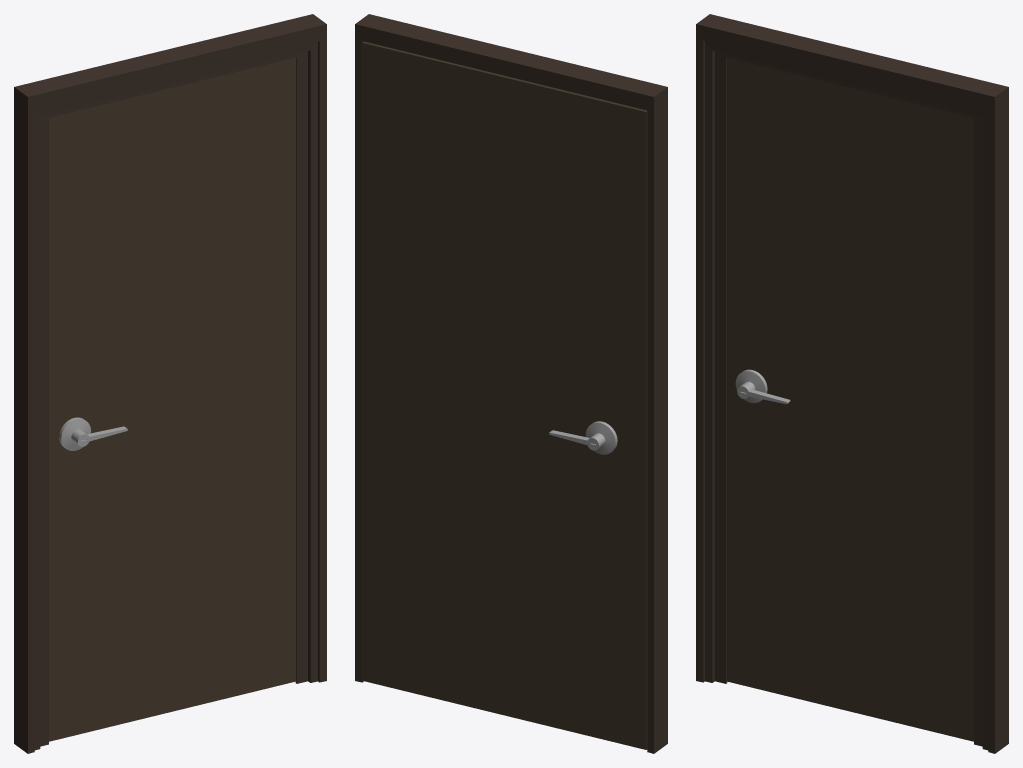
Rendered from Puerta.fbx.
3 renders of one model, left to right at view 1: azimuth 30°, elevation 25°; view 2: azimuth 150°, elevation 25°; view 3: azimuth 330°, elevation 25°, orthographic.
Parts seen in each view (by area): view 1: Cube.001, Cube, Cylinder; view 2: Cube.001, Cube, Cylinder; view 3: Cube.001, Cube, Cylinder.
Boxes of the visible parts, x1=… form: Cube.001: x1=49, y1=57, x2=296, y2=741; Cube: x1=14, y1=14, x2=326, y2=753; Cylinder: x1=59, y1=417, x2=127, y2=450; Cube.001: x1=362, y1=41, x2=647, y2=749; Cube: x1=355, y1=14, x2=667, y2=753; Cylinder: x1=549, y1=421, x2=617, y2=454; Cube.001: x1=726, y1=57, x2=973, y2=741; Cube: x1=696, y1=14, x2=1008, y2=753; Cylinder: x1=735, y1=369, x2=790, y2=404.
Bounding box in the file's own units: 100 × 210 × 16.14.
